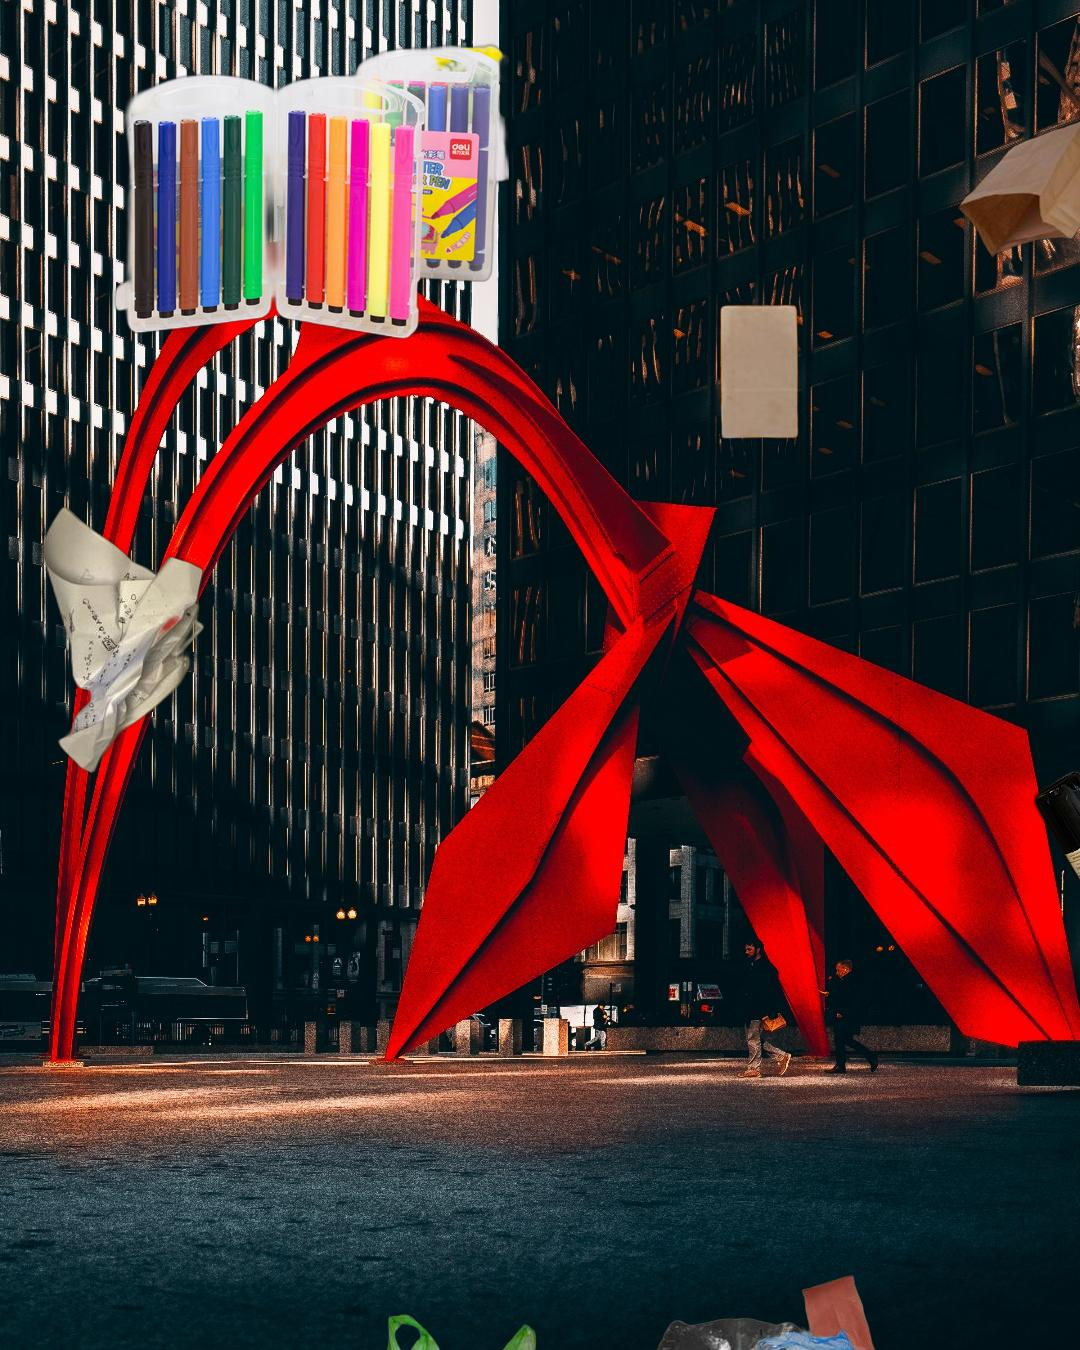glass: (1030, 766, 1080, 984)
paper: (39, 503, 209, 776)
paper-bag: (685, 302, 924, 573), (957, 118, 1080, 261)
penholder: (111, 41, 509, 343)
plastic-bag: (650, 1272, 887, 1350), (382, 1311, 538, 1350)
